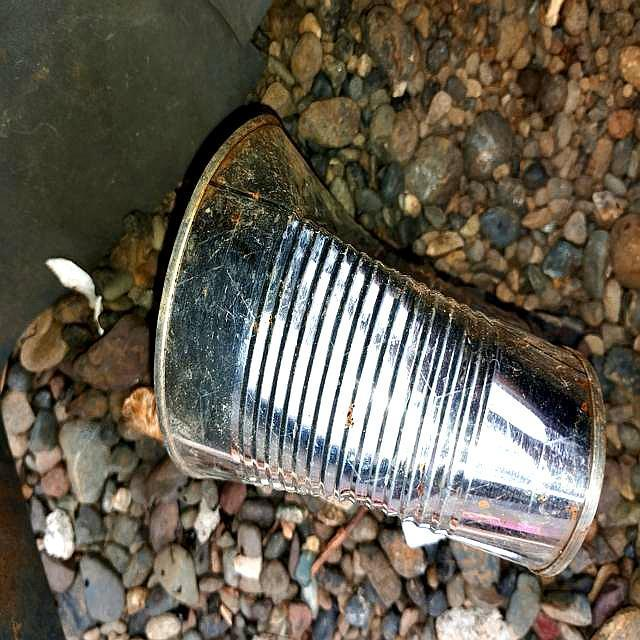Non-biodegradable: (150, 104, 609, 581)
